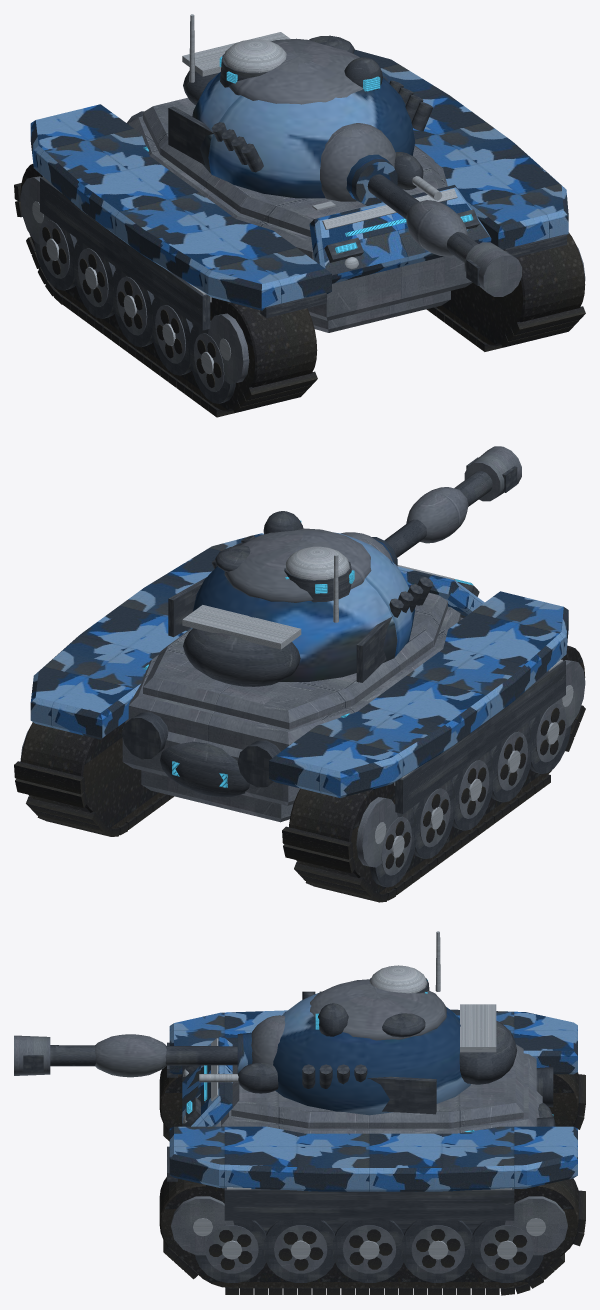
The model's file is sabre-medium-tank.glb.
The picture shows the model from 3 angles, top to bottom: view 1: azimuth 30°, elevation 25°; view 2: azimuth 150°, elevation 25°; view 3: azimuth 270°, elevation 25°; orthographic projection. The views are drawn at different scales.
Parts seen in each view (by area): view 1: fender, wheel_rim_0, track_belt, suspension_beam, wheel_hub_0, bow_glow; view 2: fender, wheel_rim_0, suspension_beam, track_belt, wheel_hub_0; view 3: fender, wheel_rim_0, suspension_beam, track_belt, wheel_hub_0.
Boxes of the visible parts, x1,y1,x2,y2 form: fender: (30, 49, 568, 310); wheel_rim_0: (20, 38, 585, 391); track_belt: (14, 164, 585, 417); suspension_beam: (34, 35, 566, 403); wheel_hub_0: (32, 14, 457, 374); bow_glow: (143, 56, 473, 253); fender: (30, 532, 568, 797); wheel_rim_0: (20, 446, 585, 875); suspension_beam: (122, 457, 571, 887); track_belt: (14, 645, 585, 902); wheel_hub_0: (182, 546, 573, 857); fender: (169, 992, 577, 1191); wheel_rim_0: (14, 979, 567, 1273); suspension_beam: (23, 978, 555, 1282); track_belt: (159, 1066, 585, 1295); wheel_hub_0: (183, 931, 545, 1259).
Bounding box in the file's own units: 5.32 × 3.96 × 7.9.
6 materials, 6 textured.
